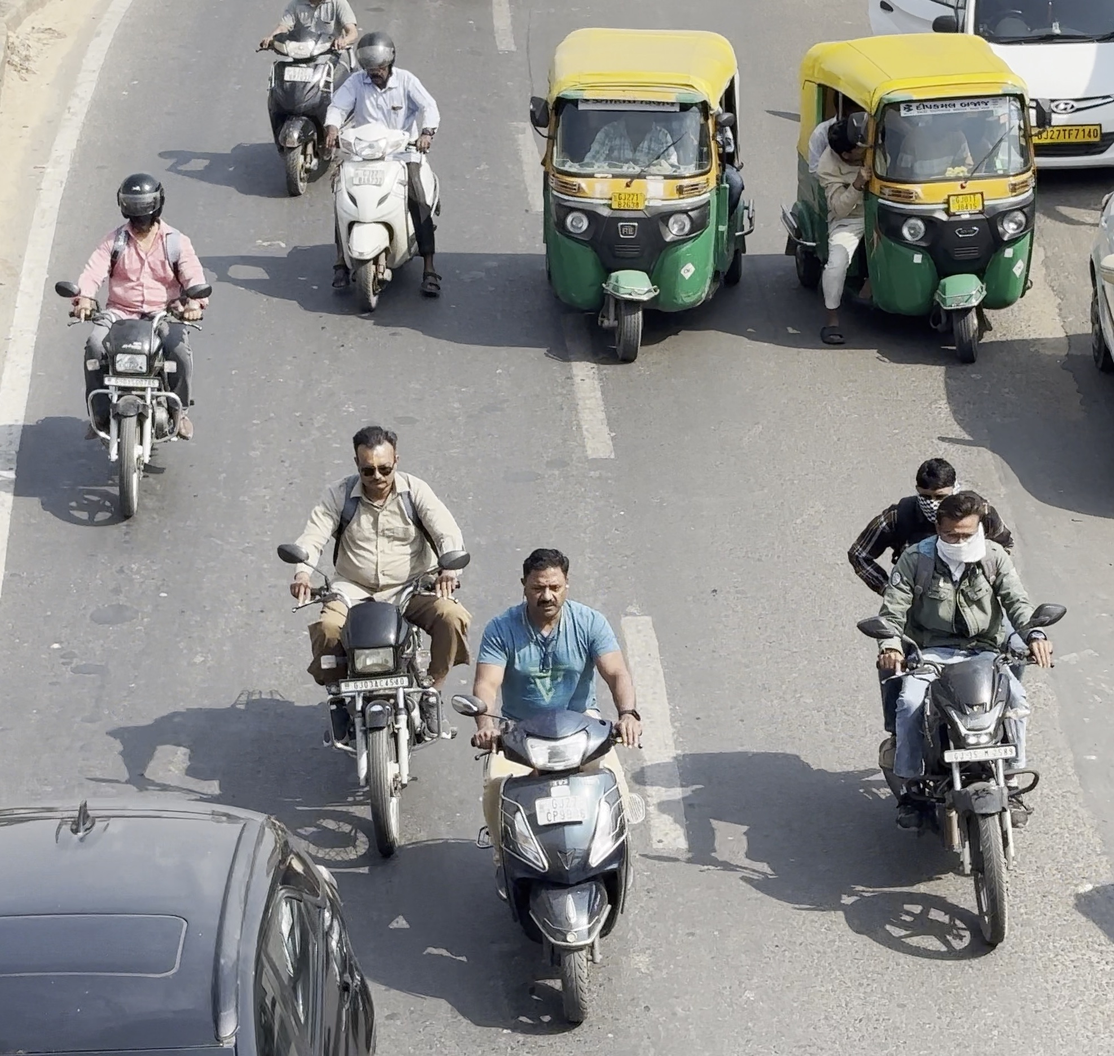BikeWithRider: (837, 447, 1076, 957), (449, 543, 654, 1030), (269, 421, 477, 861), (51, 168, 215, 528), (317, 26, 451, 320), (248, 0, 369, 205)
Helmet: (105, 170, 177, 237), (348, 27, 405, 91)
NoHelmet: (511, 545, 581, 627), (929, 493, 995, 573), (345, 422, 410, 497), (911, 453, 961, 525)
